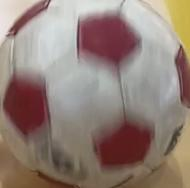Sports-Ball: (4, 3, 184, 184)
